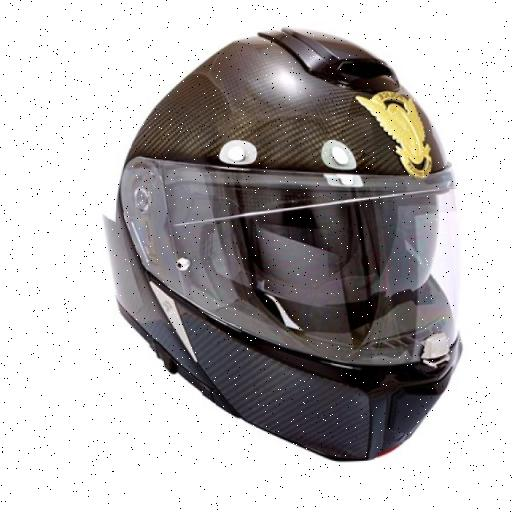Helmet: (105, 34, 480, 469)
